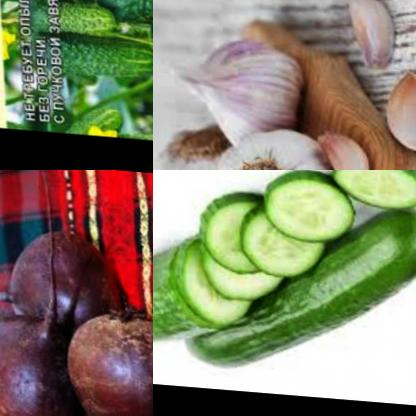beet: (0, 217, 117, 337), (59, 295, 153, 416), (0, 303, 72, 416)
cucumber: (172, 193, 416, 380), (6, 15, 153, 85), (153, 233, 238, 353), (185, 224, 286, 308), (186, 191, 275, 279), (258, 170, 353, 246), (233, 205, 322, 286), (17, 0, 127, 45), (323, 170, 416, 222)
garlic: (160, 21, 301, 151), (199, 119, 352, 170), (153, 114, 264, 170), (332, 0, 400, 61), (310, 116, 377, 170), (383, 50, 416, 147)
